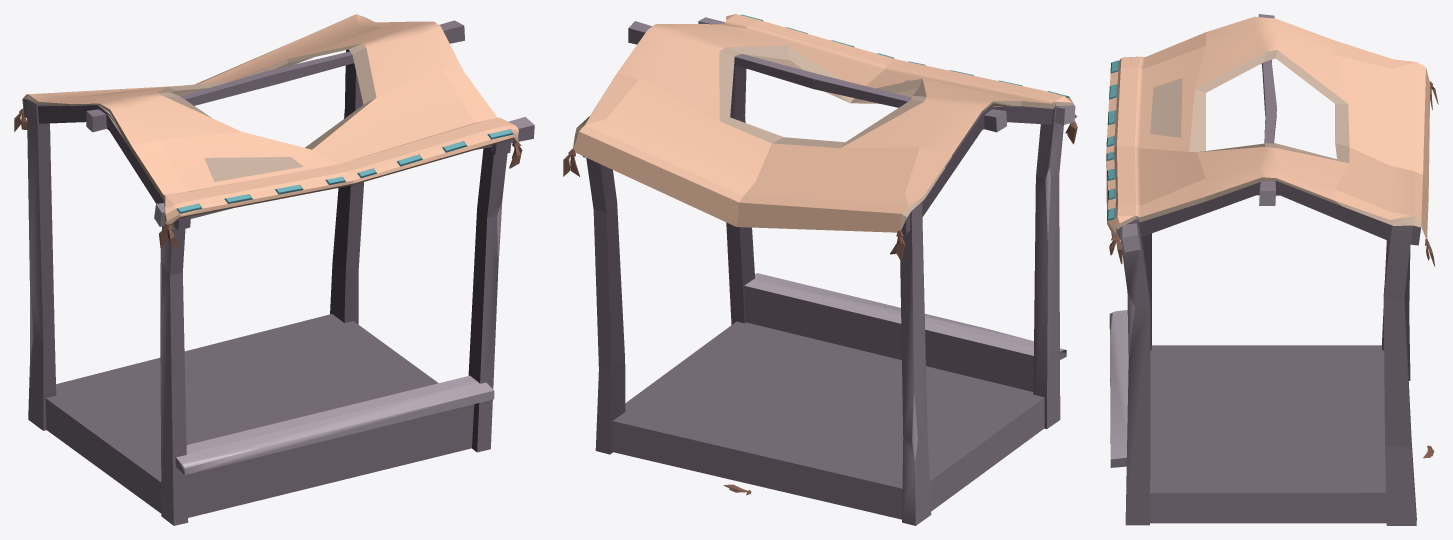
The model's file is MarketStall_bleu_broken.fbx.
3 renders of one model, left to right at view 1: azimuth 30°, elevation 25°; view 2: azimuth 150°, elevation 25°; view 3: azimuth 270°, elevation 25°, orthographic. The views are drawn at different scales.
Parts seen in each view (by area): view 1: MarketStall_bleu_broken; view 2: MarketStall_bleu_broken; view 3: MarketStall_bleu_broken.
Part boxes in pixels (x1=…): MarketStall_bleu_broken: x1=14, y1=14, x2=534, y2=525; MarketStall_bleu_broken: x1=563, y1=14, x2=1077, y2=525; MarketStall_bleu_broken: x1=1106, y1=14, x2=1438, y2=525.
Size of the model in its own units: 3.21 by 3.02 by 2.53.
